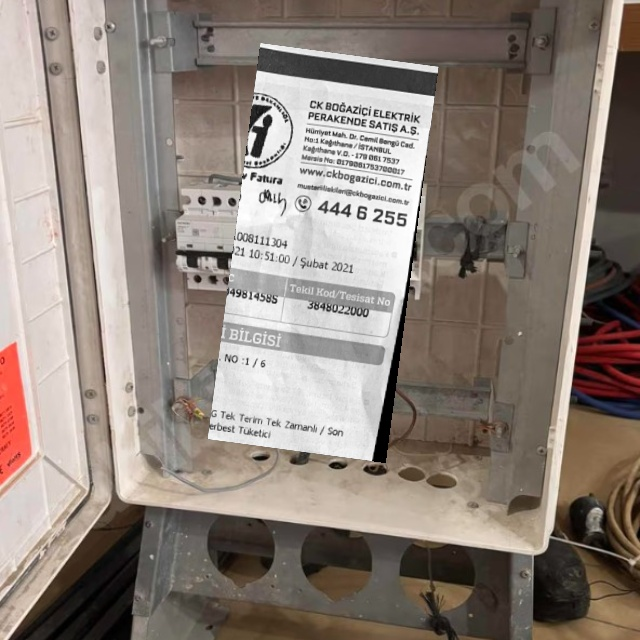electricity-bill: (206, 42, 438, 462)
